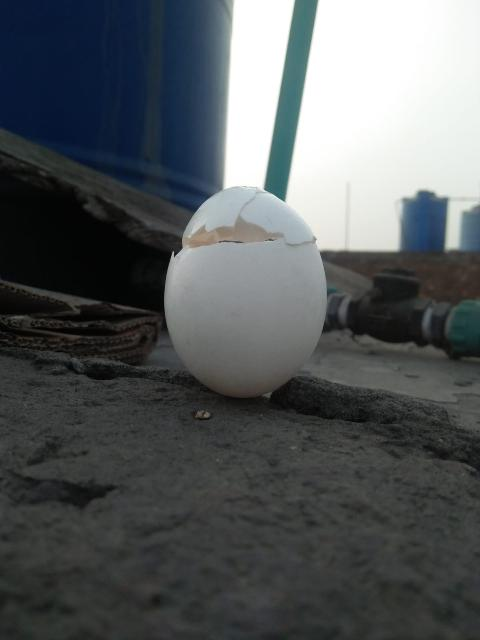Roto: (163, 184, 328, 399)
